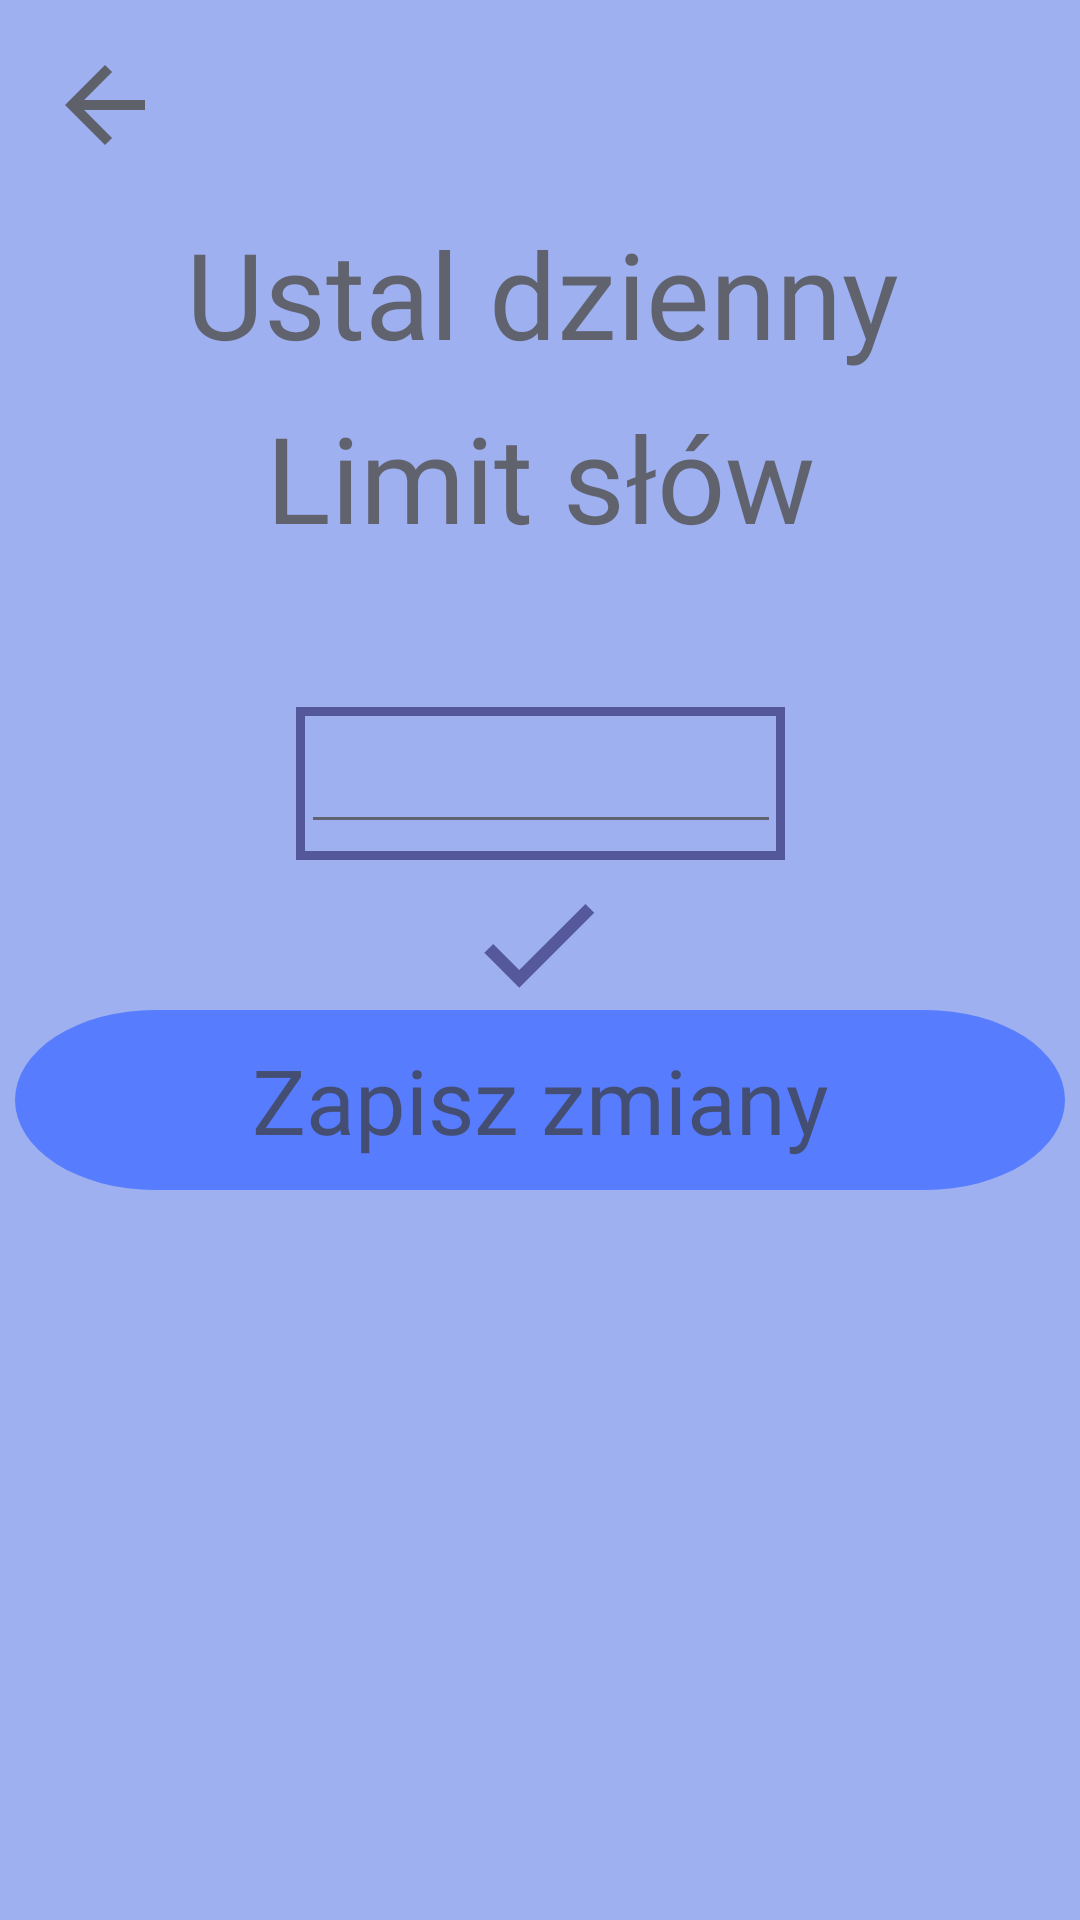

Screen size 1080 × 1920. Icon name, then its center in pixels as point (x, y):
arrow back: point (105, 105)
check: point (539, 946)
